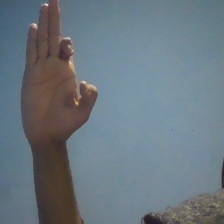F: (16, 1, 100, 144)
